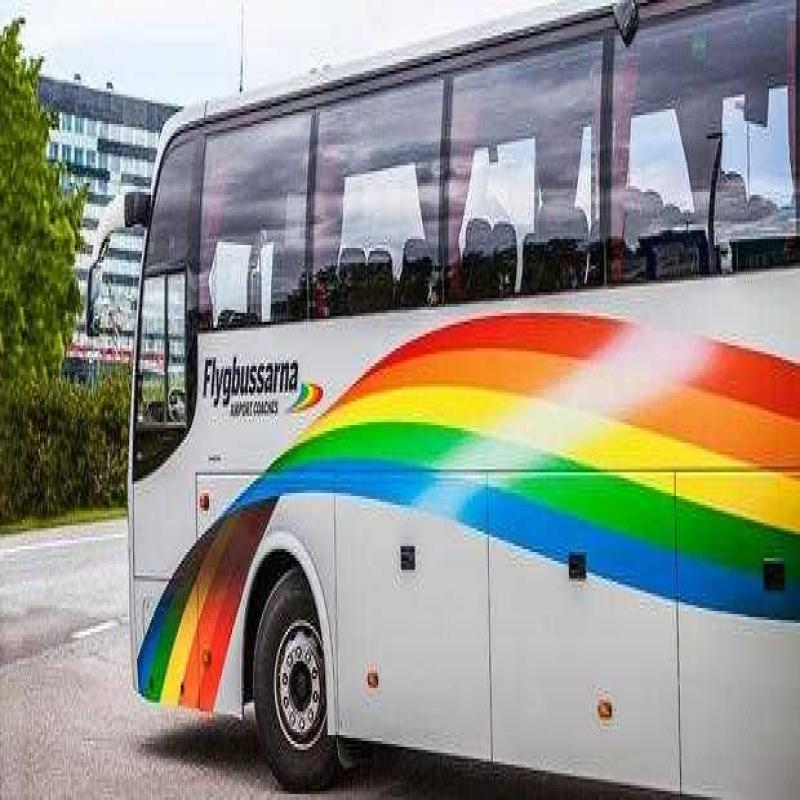bus: (84, 55, 800, 800)
